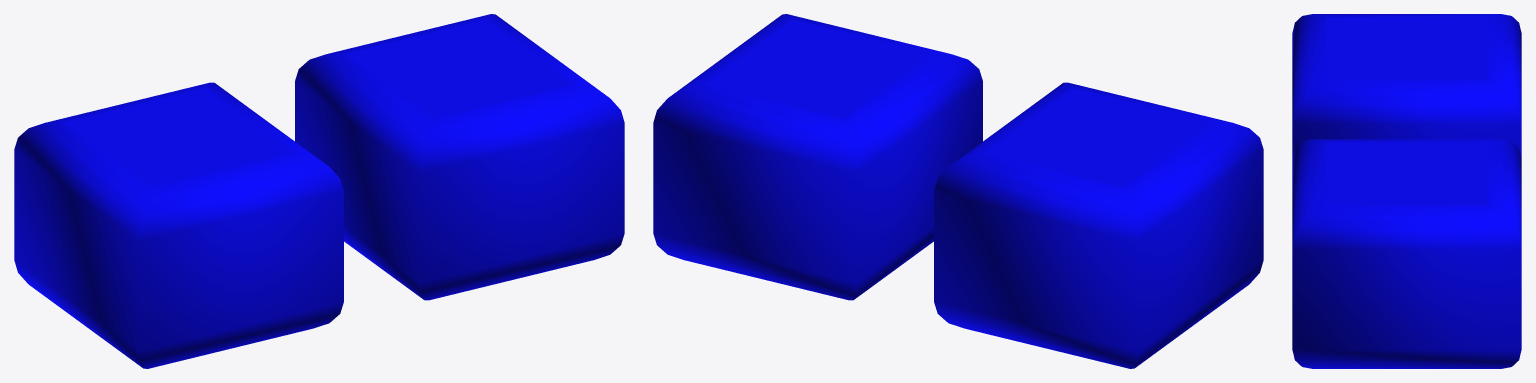
3 views of the same model, side by side, from view 1: azimuth 30°, elevation 25°; view 2: azimuth 150°, elevation 25°; view 3: azimuth 270°, elevation 25° (orthographic). The views are drawn at different scales.
Visible parts, largest first — view 1: 168; view 2: 168; view 3: 168.
Boxes of the visible parts, left/top/right/bottom form: 168: left=14, top=14, right=624, bottom=368; 168: left=653, top=14, right=1263, bottom=368; 168: left=1292, top=14, right=1521, bottom=368.
Bounding box in the file's own units: 0.4623 × 0.16 × 0.207.
